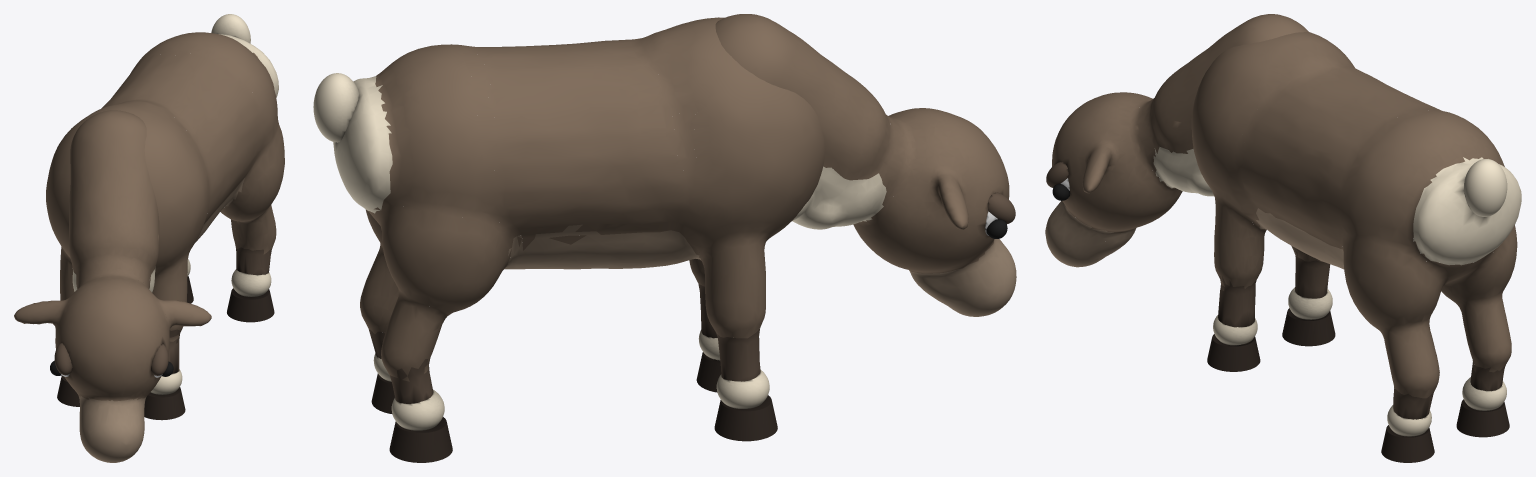
The model's file is jag-saknar-dig.glb.
3 renders of one model, left to right at view 1: azimuth 30°, elevation 25°; view 2: azimuth 150°, elevation 25°; view 3: azimuth 270°, elevation 25°, orthographic. The views are drawn at different scales.
Parts seen in each view (by area): view 1: rena__r0, cabeca__r0, rena__r11, rena__r9, rena__r10, rena__r12, rena__r8, rena__r3, cabeca__r2, cabeca__r5; view 2: rena__r0, cabeca__r0, rena__r12, rena__r3, rena__r5, rena__r4, rena__r2; view 3: rena__r0, cabeca__r0, rena__r12, rena__r5, rena__r3, rena__r11, rena__r9, rena__r2, rena__r4, rena__r8, rena__r10.
Part boxes in pixels (left/top/right/bottom): rena__r0: left=46, top=32, right=284, bottom=373; cabeca__r0: left=14, top=110, right=211, bottom=462; rena__r11: left=227, top=288, right=274, bottom=322; rena__r9: left=144, top=387, right=185, bottom=420; rena__r10: left=231, top=269, right=271, bottom=296; rena__r12: left=211, top=14, right=250, bottom=43; rena__r8: left=150, top=369, right=182, bottom=394; rena__r3: left=57, top=375, right=79, bottom=406; cabeca__r2: left=54, top=342, right=72, bottom=375; cabeca__r5: left=151, top=344, right=168, bottom=375; rena__r0: left=333, top=17, right=824, bottom=403; cabeca__r0: left=715, top=14, right=1016, bottom=316; rena__r12: left=313, top=73, right=359, bottom=142; rena__r3: left=714, top=395, right=777, bottom=441; rena__r5: left=389, top=417, right=452, bottom=462; rena__r4: left=391, top=389, right=444, bottom=430; rena__r2: left=716, top=370, right=769, bottom=408; rena__r0: left=1191, top=32, right=1521, bottom=419; cabeca__r0: left=1045, top=14, right=1308, bottom=267; rena__r12: left=1464, top=159, right=1507, bottom=216; rena__r5: left=1456, top=399, right=1509, bottom=437; rena__r3: left=1282, top=308, right=1335, bottom=346; rena__r11: left=1381, top=425, right=1434, bottom=462; rena__r9: left=1207, top=334, right=1260, bottom=371; rena__r2: left=1288, top=287, right=1332, bottom=319; rena__r4: left=1462, top=377, right=1506, bottom=410; rena__r8: left=1213, top=315, right=1257, bottom=345; rena__r10: left=1387, top=405, right=1431, bottom=436.
Bounding box in the file's own units: 2.08 × 1.58 × 2.1.
